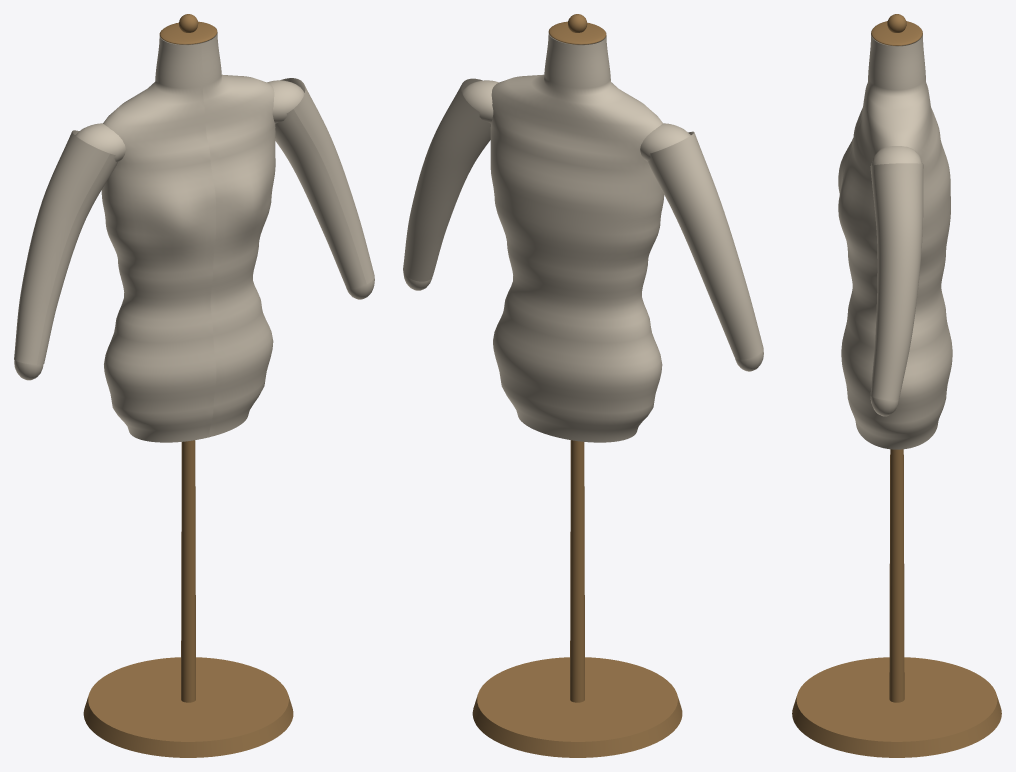
The model's file is mannequin.glb.
3 views of the same model, side by side, from view 1: azimuth 30°, elevation 25°; view 2: azimuth 150°, elevation 25°; view 3: azimuth 270°, elevation 25° (orthographic).
Parts seen in each view (by area): view 1: linen-torso, atelier-base, linen-arm--1, linen-arm-1, atelier-stand, shoulder-joint--1, shoulder-joint-1, neck-cap; view 2: linen-torso, atelier-base, linen-arm--1, linen-arm-1, atelier-stand, shoulder-joint--1, shoulder-joint-1, neck-cap; view 3: linen-torso, atelier-base, linen-arm-1, atelier-stand, neck-cap, shoulder-joint-1, wrist-cap-1.
Boxes of the visible parts, bbox=[...] form: linen-torso: bbox=[101, 32, 275, 442]; atelier-base: bbox=[83, 657, 293, 757]; linen-arm--1: bbox=[14, 130, 117, 364]; linen-arm-1: bbox=[275, 78, 374, 288]; atelier-stand: bbox=[181, 440, 195, 702]; shoulder-joint--1: bbox=[75, 123, 125, 161]; shoulder-joint-1: bbox=[267, 80, 304, 123]; neck-cap: bbox=[159, 21, 217, 44]; linen-torso: bbox=[490, 33, 664, 442]; atelier-base: bbox=[472, 657, 682, 757]; linen-arm--1: bbox=[647, 131, 763, 359]; linen-arm-1: bbox=[403, 78, 490, 281]; atelier-stand: bbox=[570, 440, 584, 702]; shoulder-joint--1: bbox=[640, 123, 690, 161]; shoulder-joint-1: bbox=[462, 80, 498, 123]; neck-cap: bbox=[548, 21, 606, 44]; linen-torso: bbox=[838, 33, 952, 449]; atelier-base: bbox=[792, 657, 1001, 757]; linen-arm-1: bbox=[870, 163, 923, 400]; atelier-stand: bbox=[889, 449, 904, 702]; neck-cap: bbox=[871, 21, 922, 45]; shoulder-joint-1: bbox=[871, 146, 922, 165]; wrist-cap-1: bbox=[870, 396, 898, 416].
Bounding box in the file's own units: 0.924 × 1.73 × 0.47.
